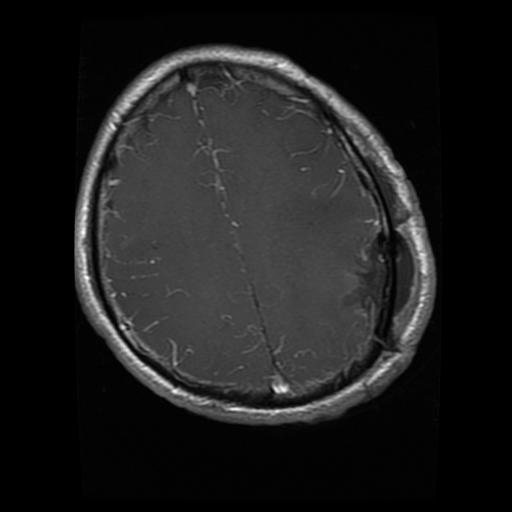Gliomia_tumour: (341, 225, 416, 316)
